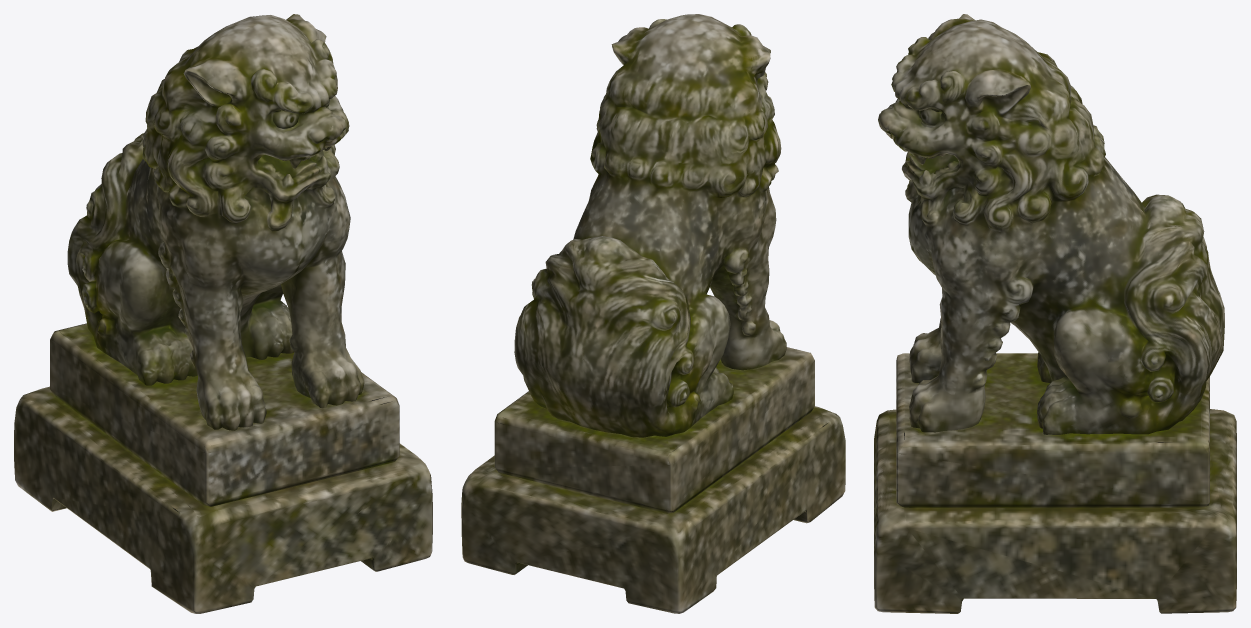
File: komainu.glb
The picture shows the model from 3 angles, left to right: view 1: azimuth 30°, elevation 25°; view 2: azimuth 150°, elevation 25°; view 3: azimuth 270°, elevation 25°; orthographic projection. The views are drawn at different scales.
Parts seen in each view (by area): view 1: geometry_0; view 2: geometry_0; view 3: geometry_0.
Part boxes in pixels (x1,y1,x2,y2): geometry_0: (14,14,432,613); geometry_0: (461,14,845,613); geometry_0: (874,14,1236,613).
Size of the model in its own units: 0.4595 by 0.9517 by 0.5962.
Materials: 1 (1 with a texture image).
